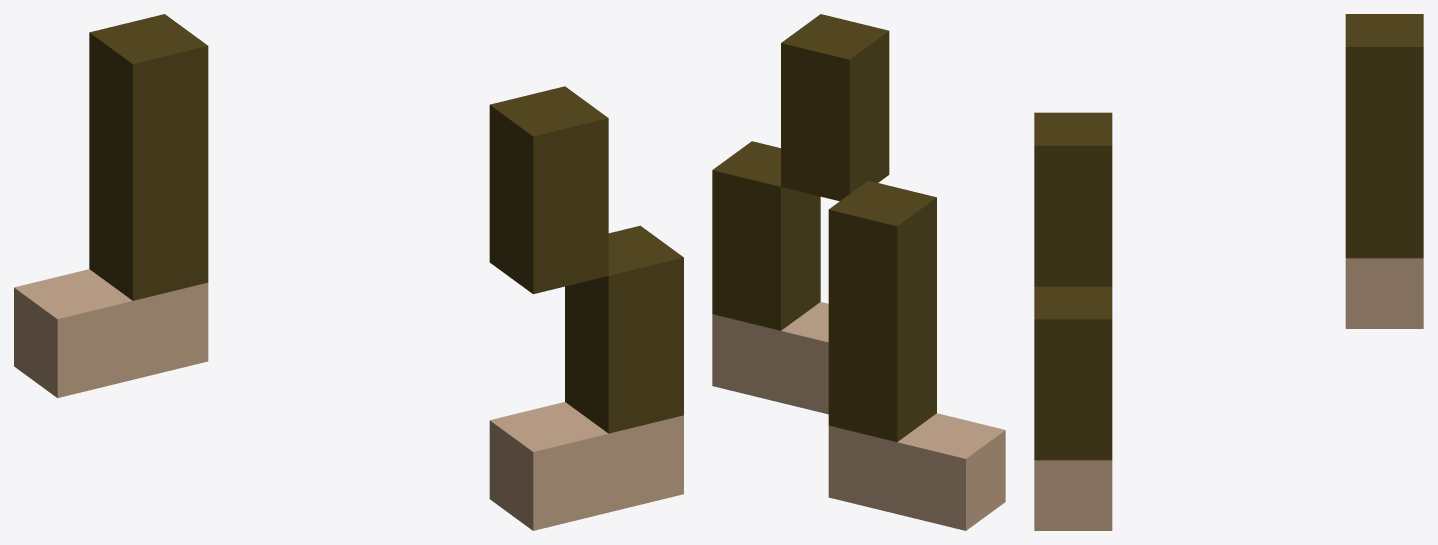
Rendered from orc-3-torso_walk.obj.
3 renders of one model, left to right at view 1: azimuth 30°, elevation 25°; view 2: azimuth 150°, elevation 25°; view 3: azimuth 270°, elevation 25°, orthographic. The views are drawn at different scales.
Parts seen in each view (by area): view 1: torso_walk; view 2: torso_walk; view 3: torso_walk.
Part boxes in pixels (x1=…): torso_walk: x1=14, y1=14, x2=683, y2=530; torso_walk: x1=712, y1=14, x2=1005, y2=530; torso_walk: x1=1034, y1=14, x2=1423, y2=530.
Size of the model in its own units: 0.6 by 0.5 by 0.5.
1 material, 1 textured.
